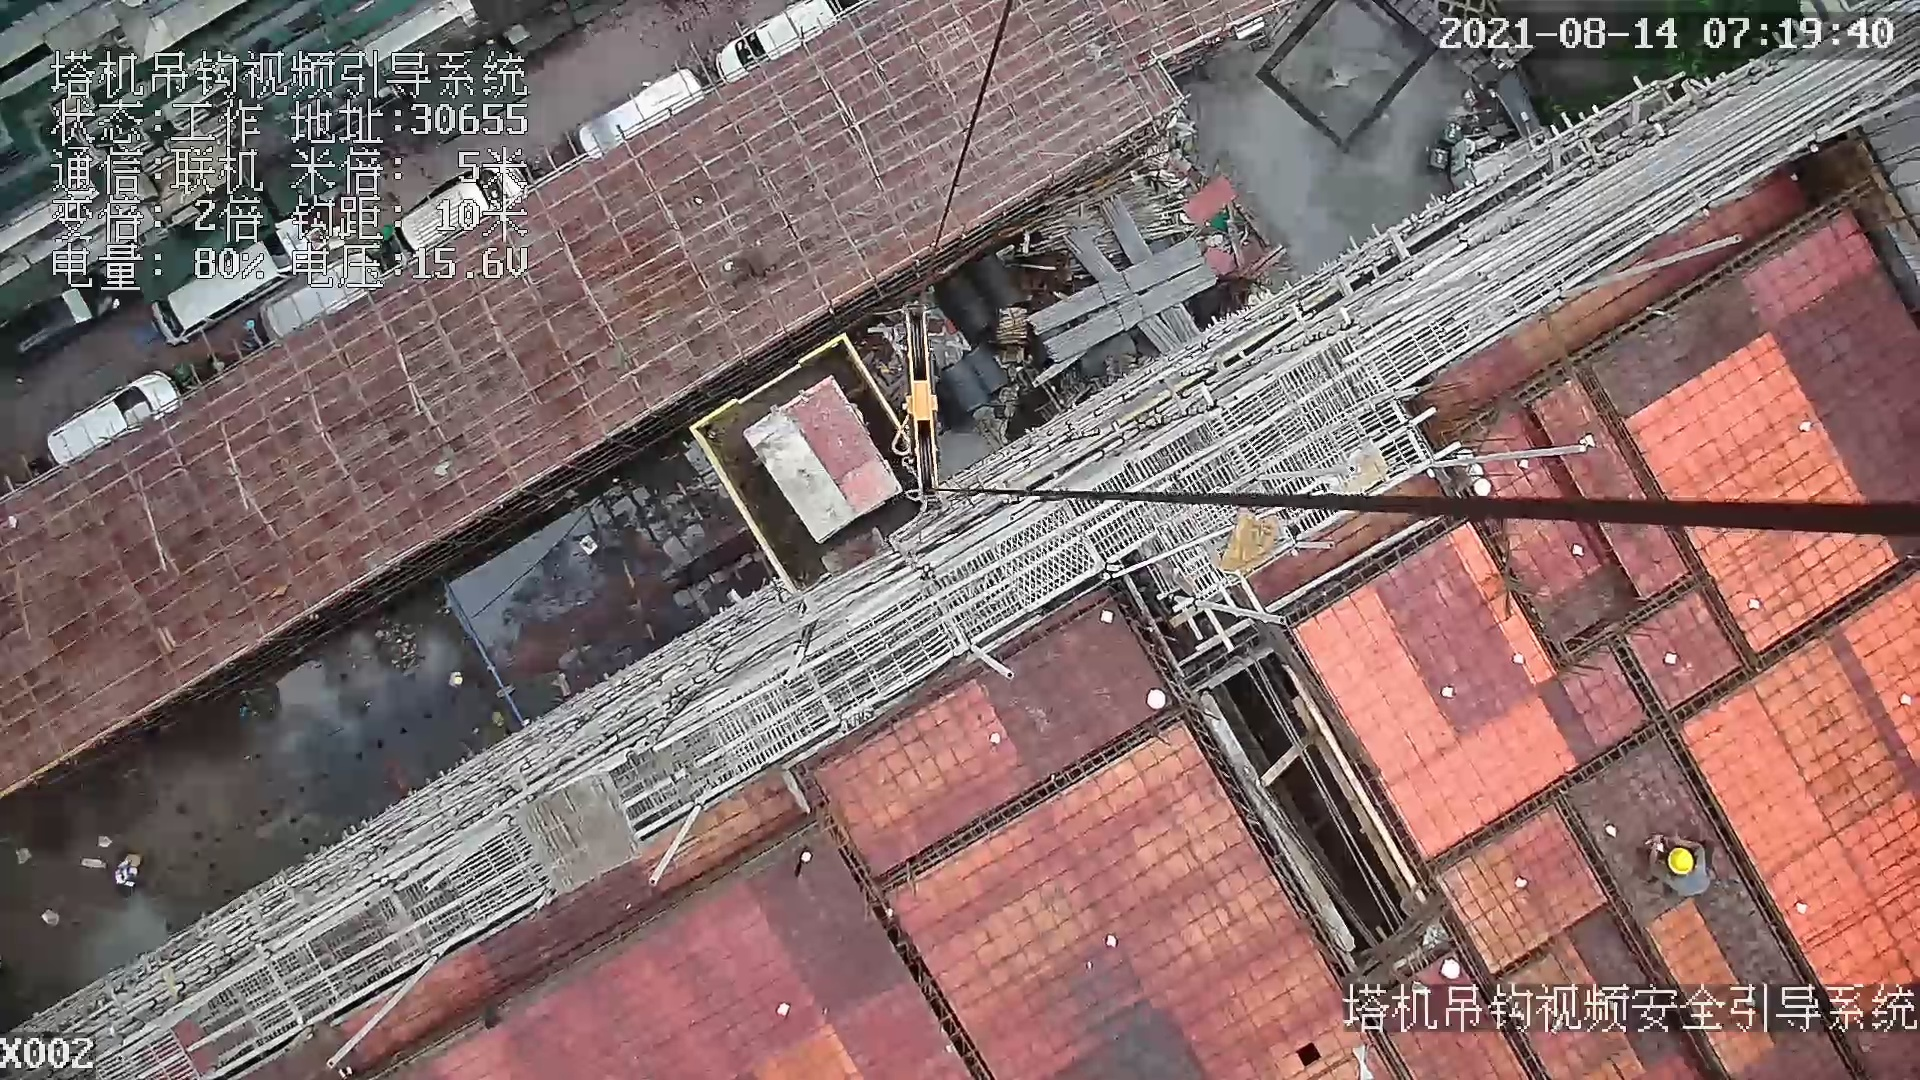helmet: (1660, 843, 1700, 883)
hook: (887, 296, 947, 503)
person: (1647, 822, 1718, 900)
